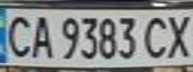3: (115, 14, 142, 61), (78, 14, 100, 61)
8: (96, 14, 121, 61)
9: (54, 12, 81, 61)
A: (27, 11, 57, 60)
C: (0, 11, 36, 60), (139, 12, 172, 61)
X: (160, 11, 193, 60)
